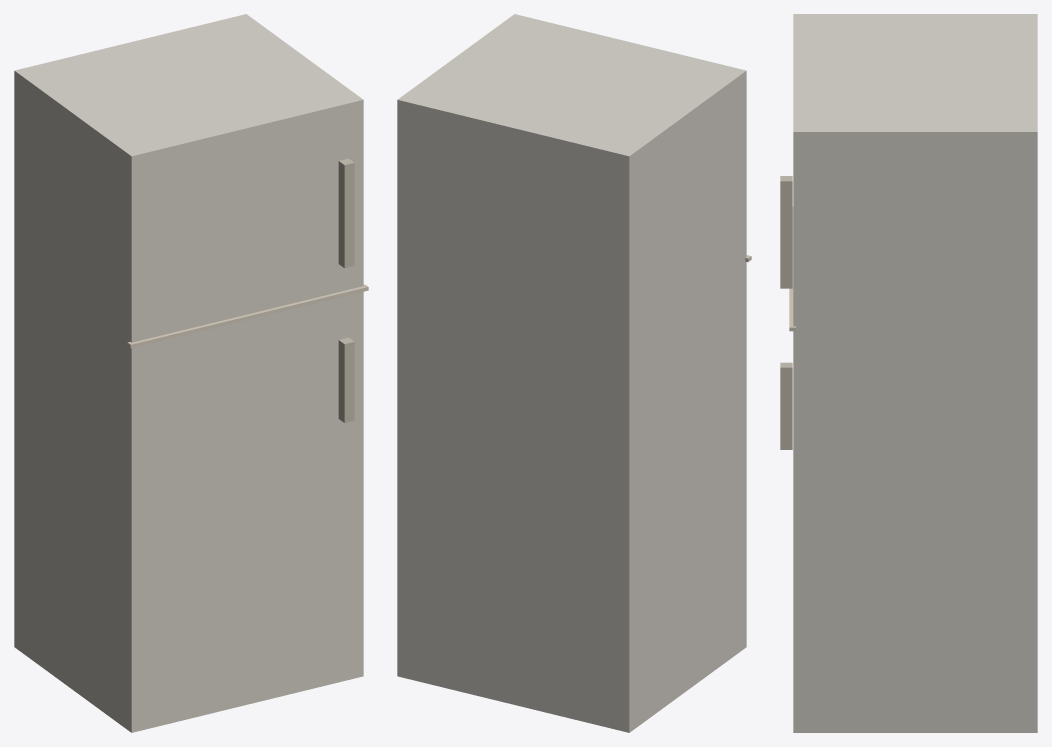
File: home_room_fridge.glb
3 renders of one model, left to right at view 1: azimuth 30°, elevation 25°; view 2: azimuth 150°, elevation 25°; view 3: azimuth 270°, elevation 25°, orthographic. The views are drawn at different scales.
Size of the model in its own units: 0.82 by 1.9 by 0.7375.
